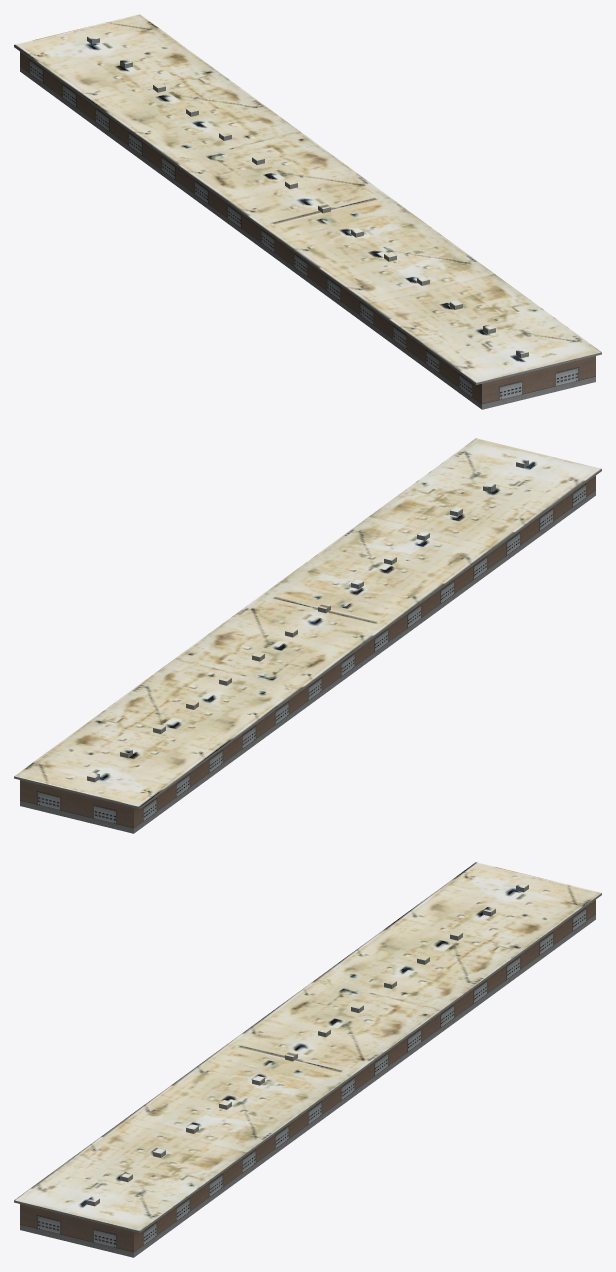
File: Building1.gltf
3 views of the same model, one above another, from view 1: azimuth 30°, elevation 25°; view 2: azimuth 150°, elevation 25°; view 3: azimuth 330°, elevation 25° (orthographic).
Parts seen in each view (by area): view 1: Building1; view 2: Building1; view 3: Building1.
Boxes of the visible parts, <box> form: Building1: <box>14,14,601,409</box>; Building1: <box>14,438,601,833</box>; Building1: <box>14,862,601,1257</box>.
Size of the model in its own units: 30.34 by 7.5 by 193.
Materials: 1 (1 with a texture image).
